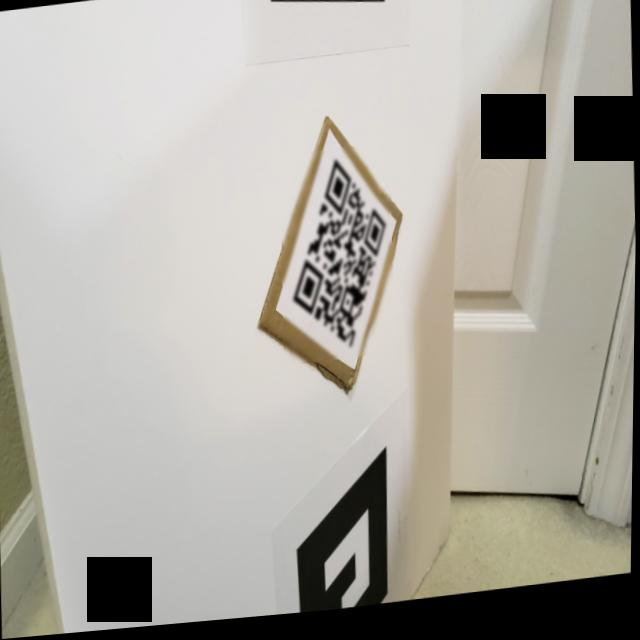QR_CODE: (277, 149, 397, 372)
